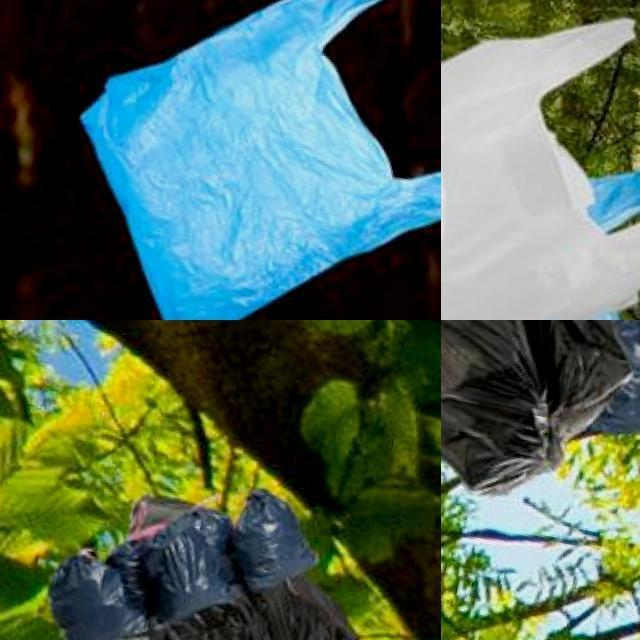waste: (37, 0, 441, 320), (441, 0, 640, 320), (441, 124, 640, 320), (441, 320, 640, 500), (42, 541, 371, 640), (114, 494, 258, 616), (226, 492, 330, 606), (44, 547, 156, 639)
